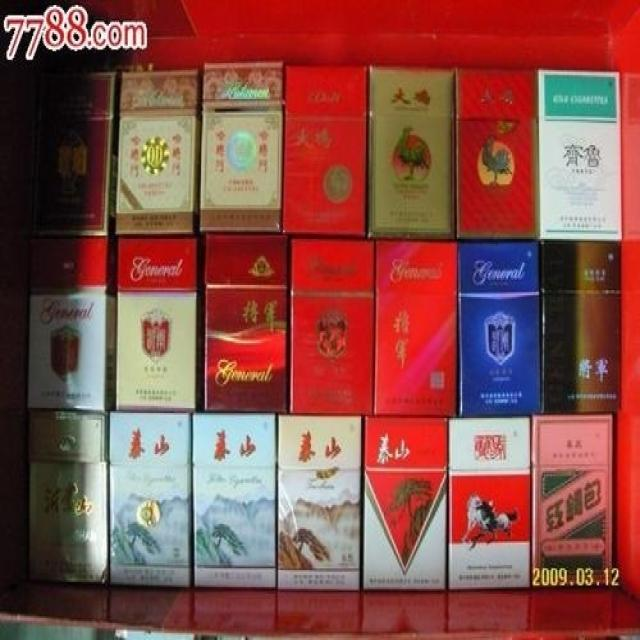box: (276, 415, 365, 591), (289, 234, 374, 418), (108, 411, 196, 587), (27, 237, 116, 411), (374, 239, 460, 418), (458, 237, 544, 416), (192, 411, 278, 589), (115, 236, 202, 411), (205, 234, 288, 415), (454, 65, 540, 239), (370, 65, 456, 239), (280, 63, 366, 237), (198, 61, 284, 234), (448, 418, 534, 591), (29, 68, 116, 239), (538, 68, 623, 242), (364, 416, 449, 589), (532, 416, 616, 591), (26, 410, 110, 585), (540, 239, 622, 416), (116, 70, 202, 236)
